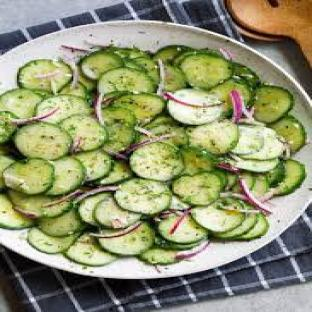Cucumber: (130, 142, 184, 181), (14, 123, 71, 159), (115, 179, 172, 214), (168, 89, 223, 124), (18, 59, 71, 93), (4, 159, 54, 195), (99, 223, 155, 255), (181, 54, 233, 88), (9, 190, 73, 217), (188, 120, 238, 154), (60, 114, 107, 150), (65, 234, 117, 266), (191, 202, 245, 232), (173, 173, 223, 205), (210, 78, 252, 114), (47, 157, 85, 196), (98, 67, 155, 93), (36, 96, 90, 123), (113, 94, 165, 122), (94, 198, 141, 228), (255, 86, 293, 122), (157, 216, 207, 243), (241, 128, 284, 159), (270, 116, 306, 153), (28, 227, 76, 254), (38, 209, 83, 237), (81, 50, 122, 79), (0, 89, 42, 117), (0, 195, 34, 229), (76, 149, 112, 181), (214, 214, 257, 240), (275, 159, 306, 195), (79, 192, 112, 225), (145, 122, 187, 147), (232, 125, 264, 155), (103, 123, 134, 152), (181, 147, 214, 174), (236, 214, 269, 240), (98, 160, 132, 184), (227, 157, 279, 172), (133, 57, 160, 85), (140, 247, 179, 265), (232, 63, 260, 88), (156, 236, 202, 250), (103, 107, 138, 125), (164, 64, 187, 91), (154, 46, 190, 62), (0, 112, 17, 144), (144, 114, 180, 129), (173, 49, 204, 66), (106, 46, 148, 58), (0, 156, 15, 189), (79, 67, 97, 91), (266, 163, 284, 187), (60, 83, 88, 98), (251, 174, 269, 197), (212, 170, 228, 189), (123, 58, 144, 71), (239, 172, 255, 189), (171, 196, 189, 209), (31, 90, 52, 99), (226, 172, 236, 189), (0, 145, 15, 156)
